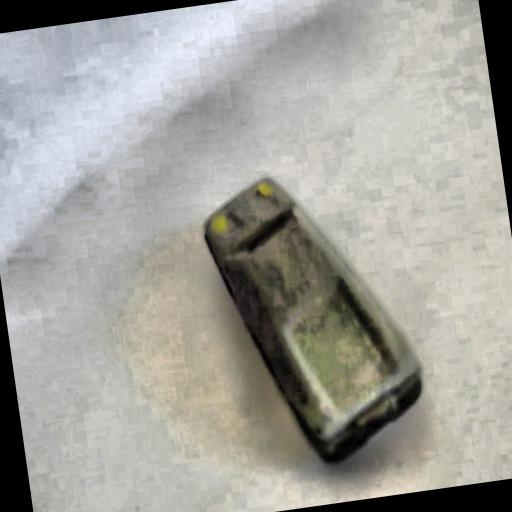normal_car: (182, 141, 440, 482)
